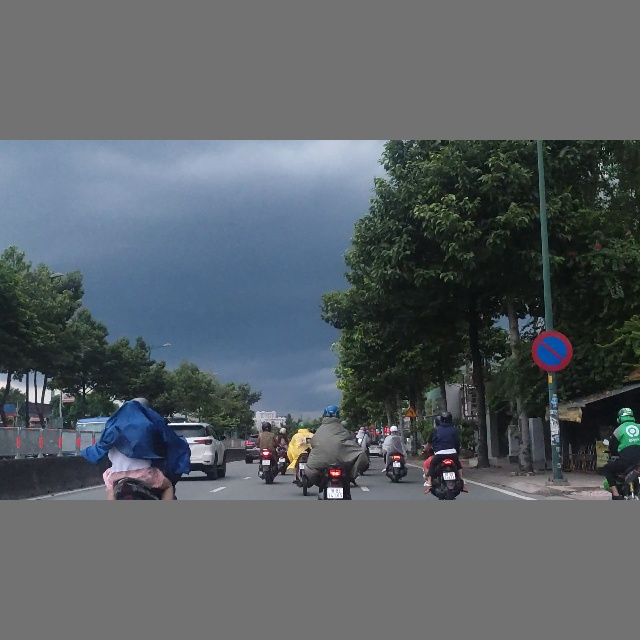P.131a: (531, 330, 572, 371)
W.201a: (405, 406, 419, 418)
